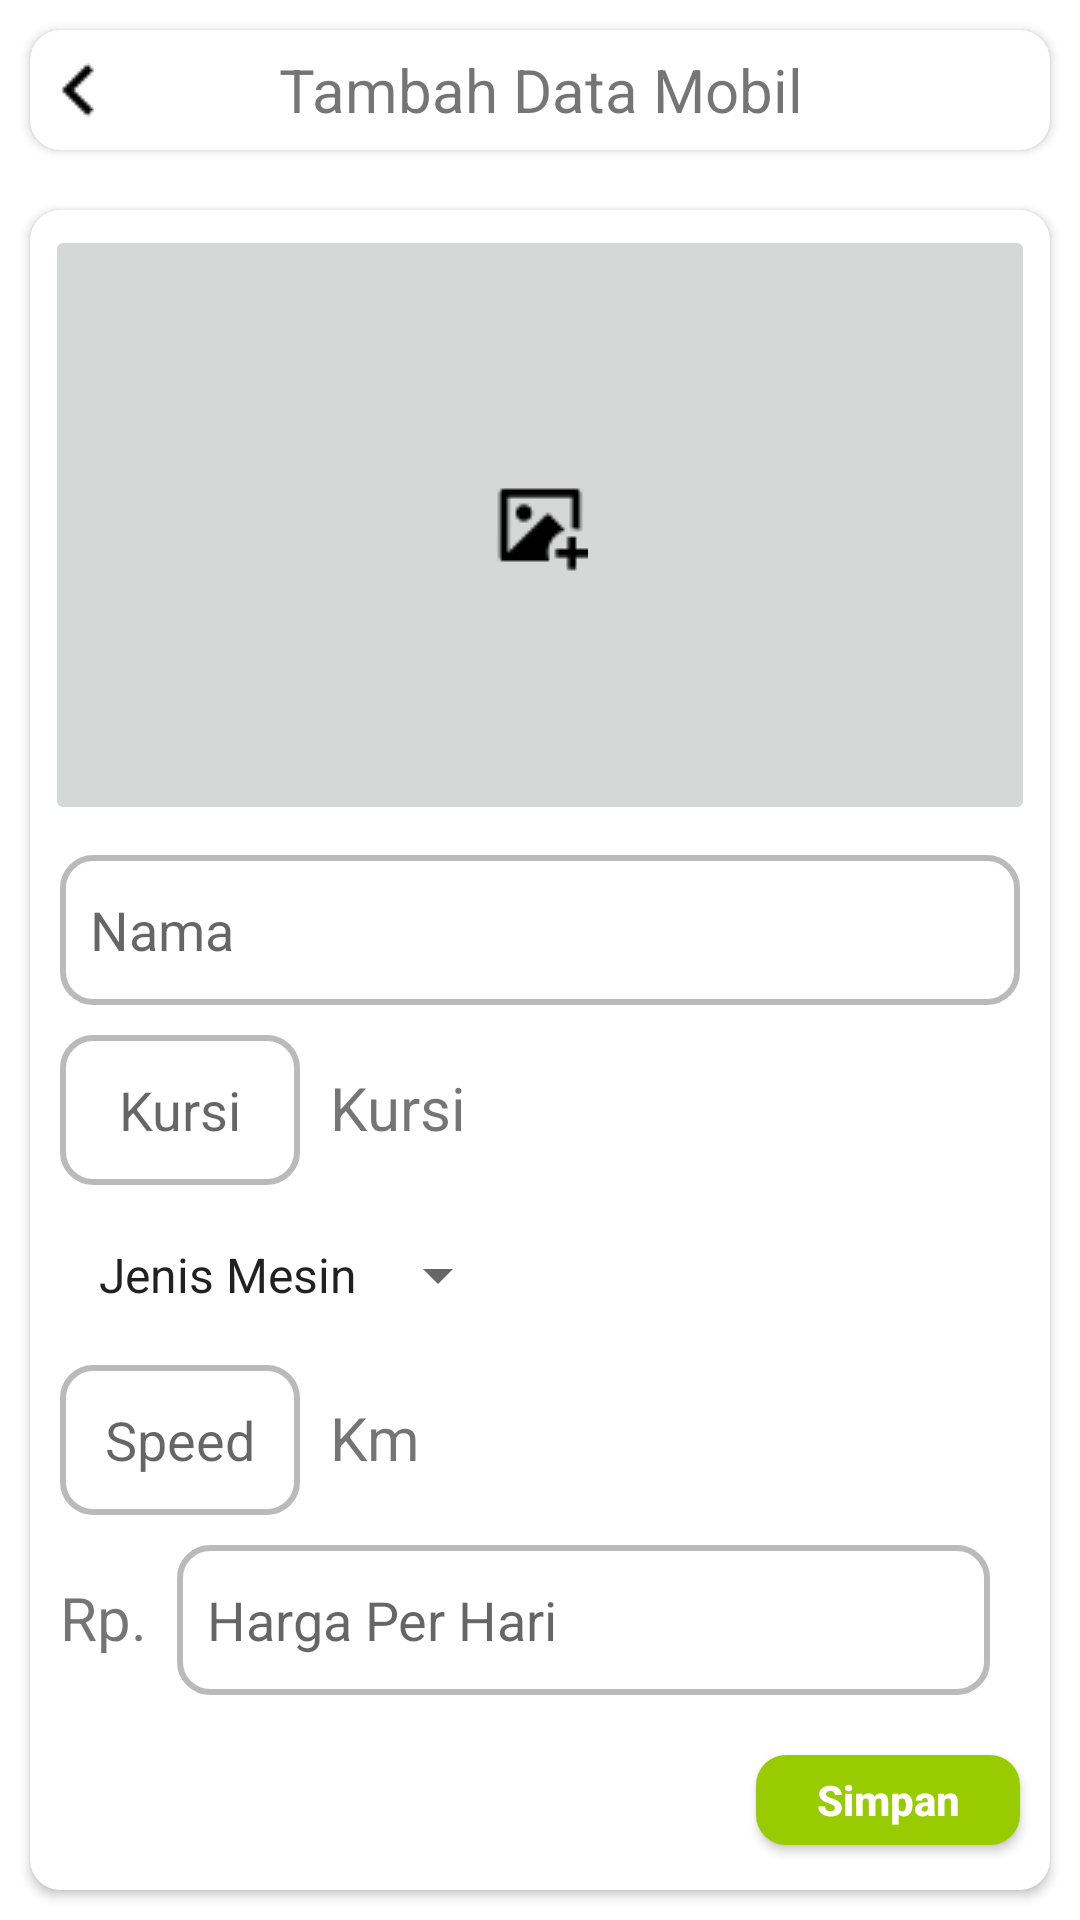

Where to tap for icons on this 1080px x 1920px app screen, as [x,y]:
arrow left: [78,90]
